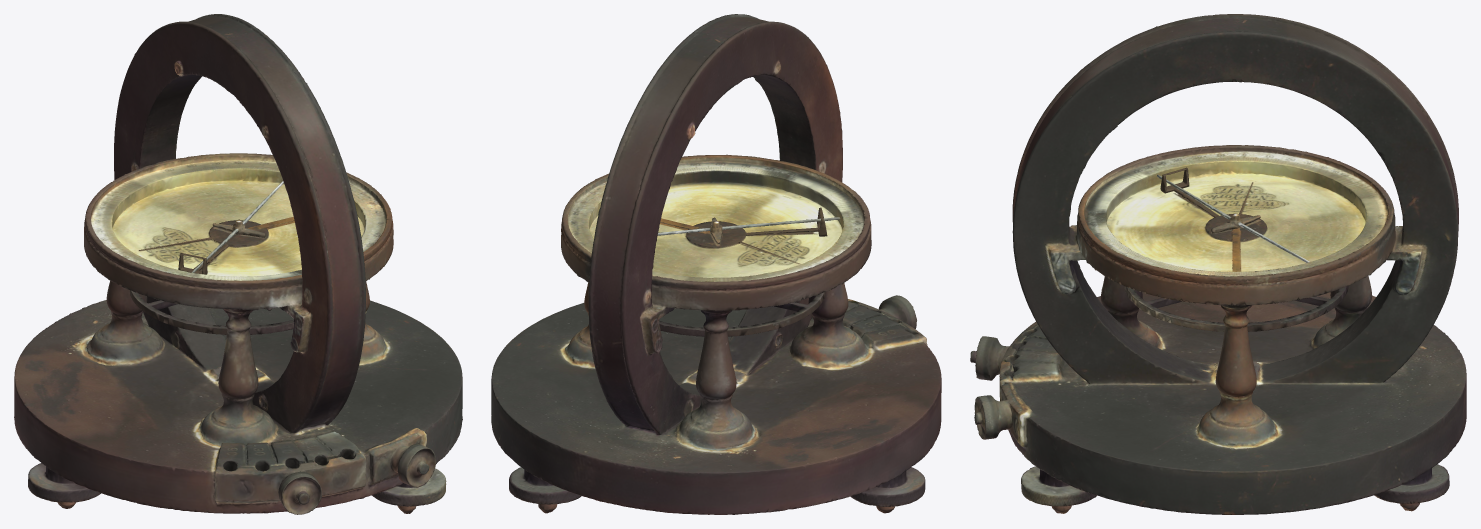
File: galvanometer.glb
3 renders of one model, left to right at view 1: azimuth 30°, elevation 25°; view 2: azimuth 150°, elevation 25°; view 3: azimuth 270°, elevation 25°, orthographic. The views are drawn at different scales.
Parts seen in each view (by area): view 1: Object_4, Object_5; view 2: Object_4, Object_5; view 3: Object_4, Object_5.
Boxes of the visible parts, x1=… form: Object_4: x1=14, y1=14, x2=462, y2=514; Object_5: x1=14, y1=20, x2=462, y2=513; Object_4: x1=491, y1=14, x2=941, y2=514; Object_5: x1=491, y1=30, x2=941, y2=513; Object_4: x1=975, y1=14, x2=1466, y2=514; Object_5: x1=970, y1=14, x2=1465, y2=514.
Size of the model in its own units: 0.1166 by 0.1223 by 0.1226.
1 material, 1 textured.
